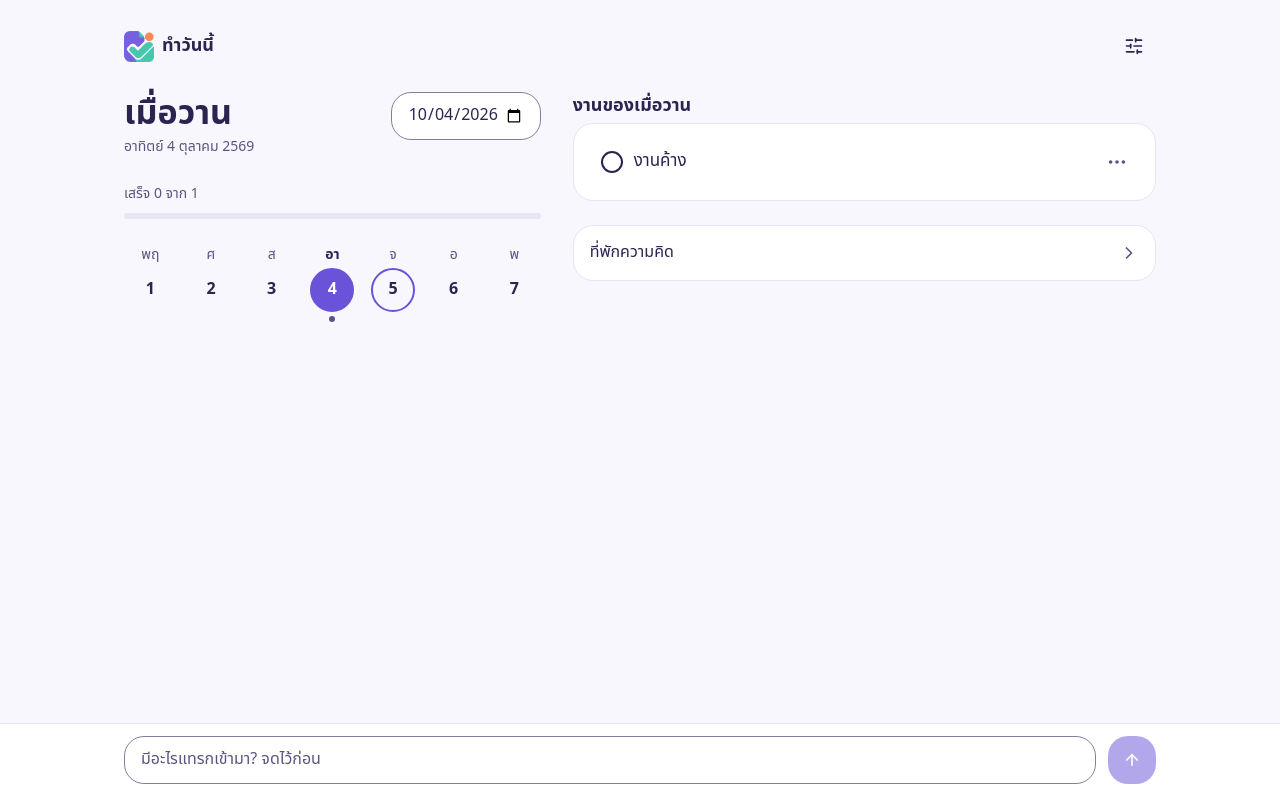
DayPage (เฟส 2) › วันที่ผ่านมาแล้ว: เพิ่มงานใหม่ไม่ได้ แต่จัดการงานเก่าและดึงมาทำวันนี้ได้
expect the heading "เมื่อวาน" is shown: met, box [124,88,232,139]
Click the button named "ตัวเลือกของ งานค้าง" at [1117, 162], box [1095,140,1139,184]
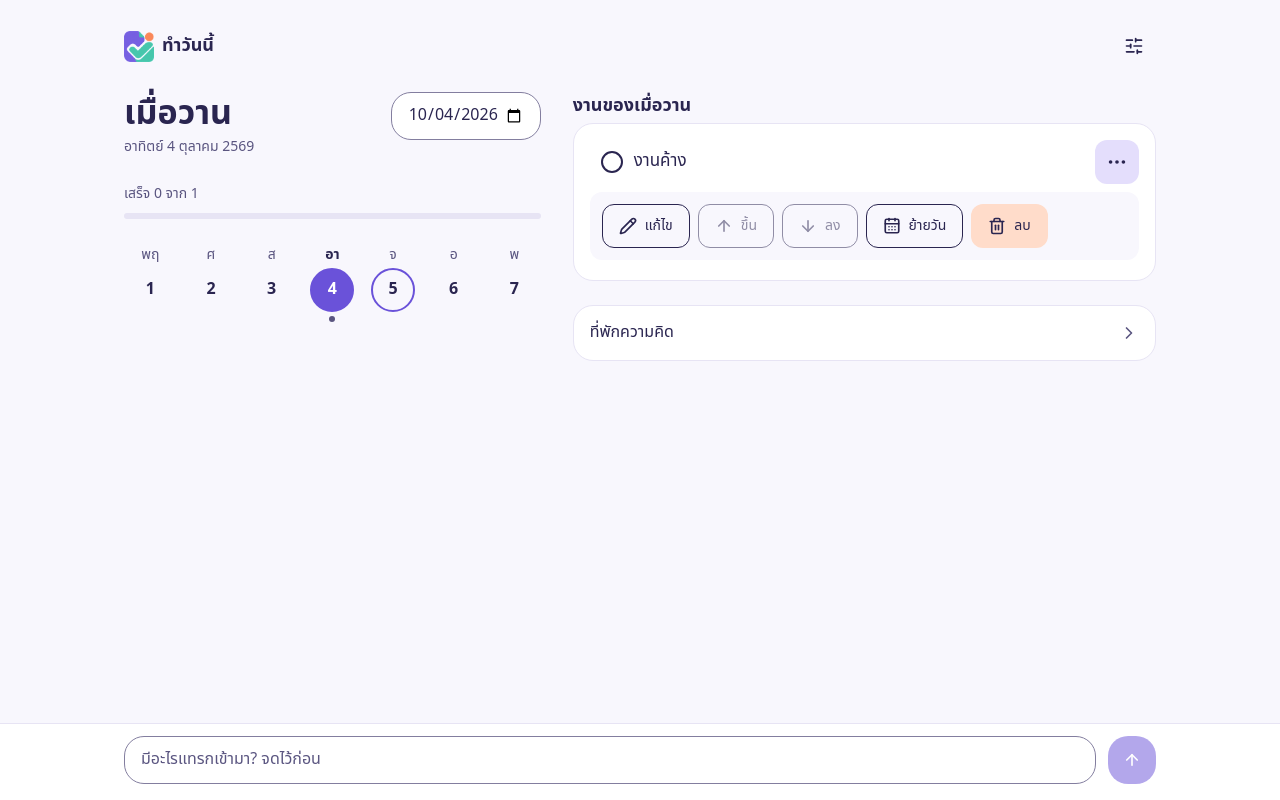
Click the button "ย้ายวัน" at [914, 226], box [866,204,963,248]
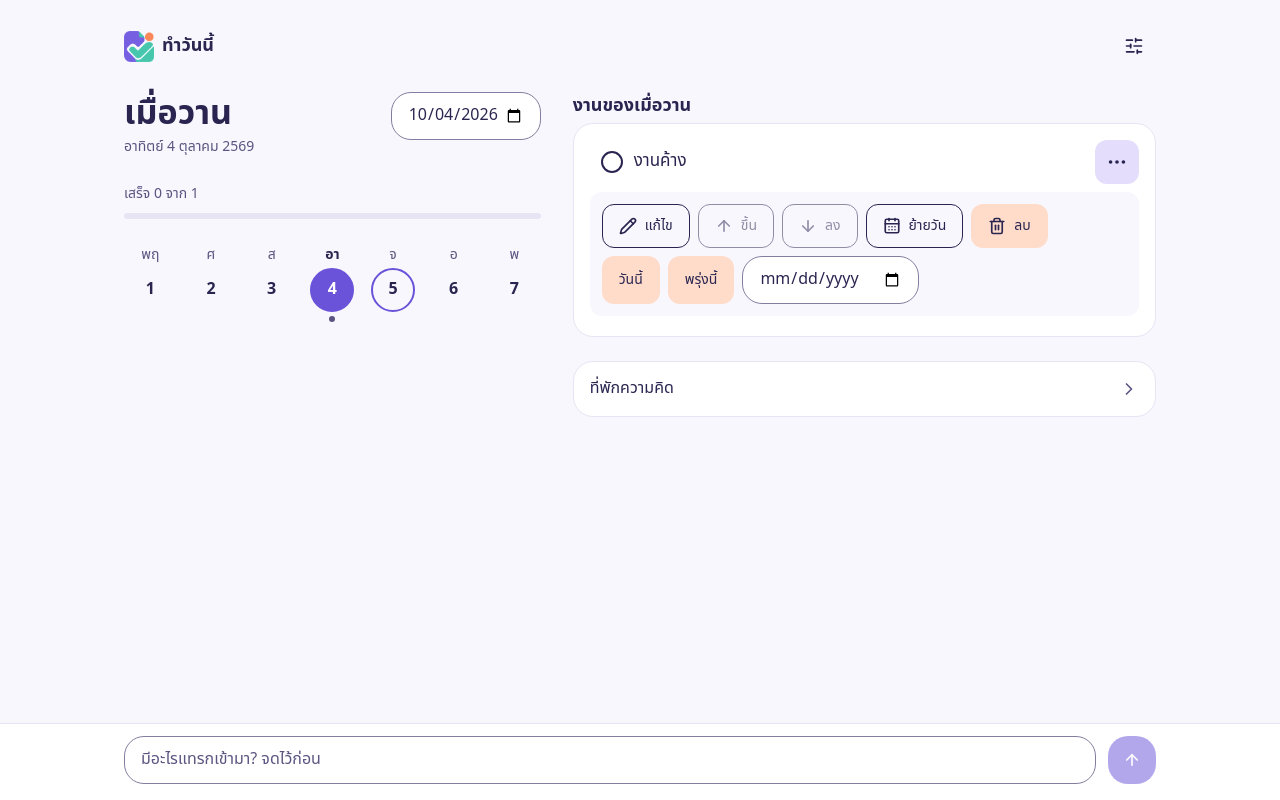
Click the button "วันนี้" at [631, 280], box [602,256,660,304]
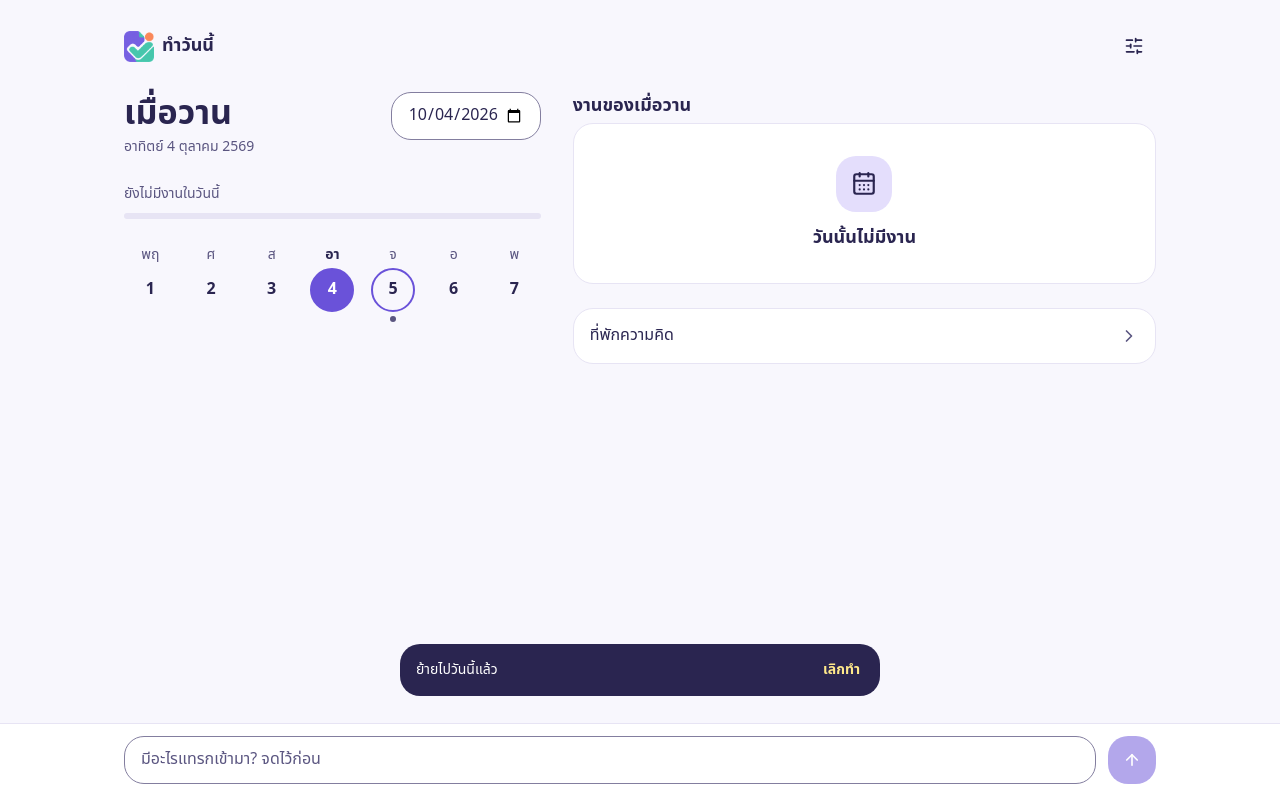
expect the text "วันนั้นไม่มีงาน" is shown: met, box [813,224,916,251]
